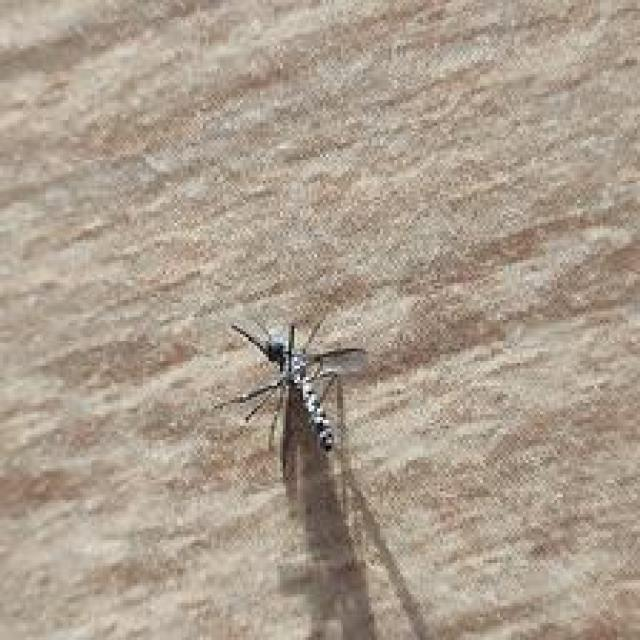Aedes albopictus: (213, 311, 370, 463)
